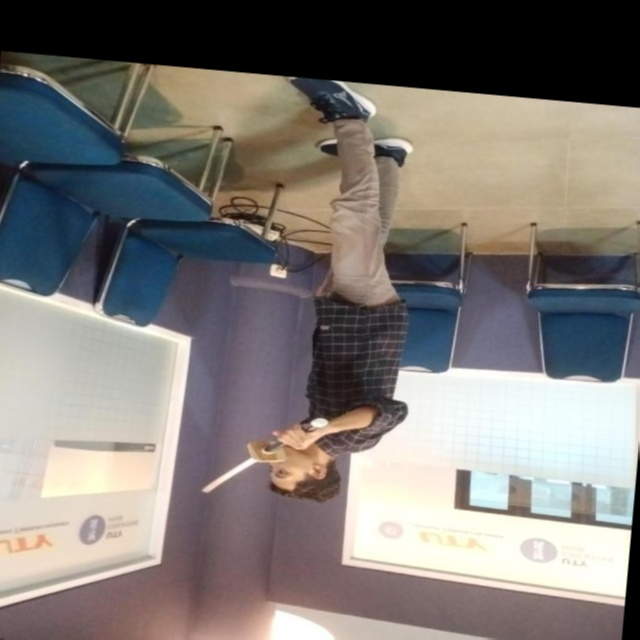Sharp-Object: (173, 395, 338, 512)
